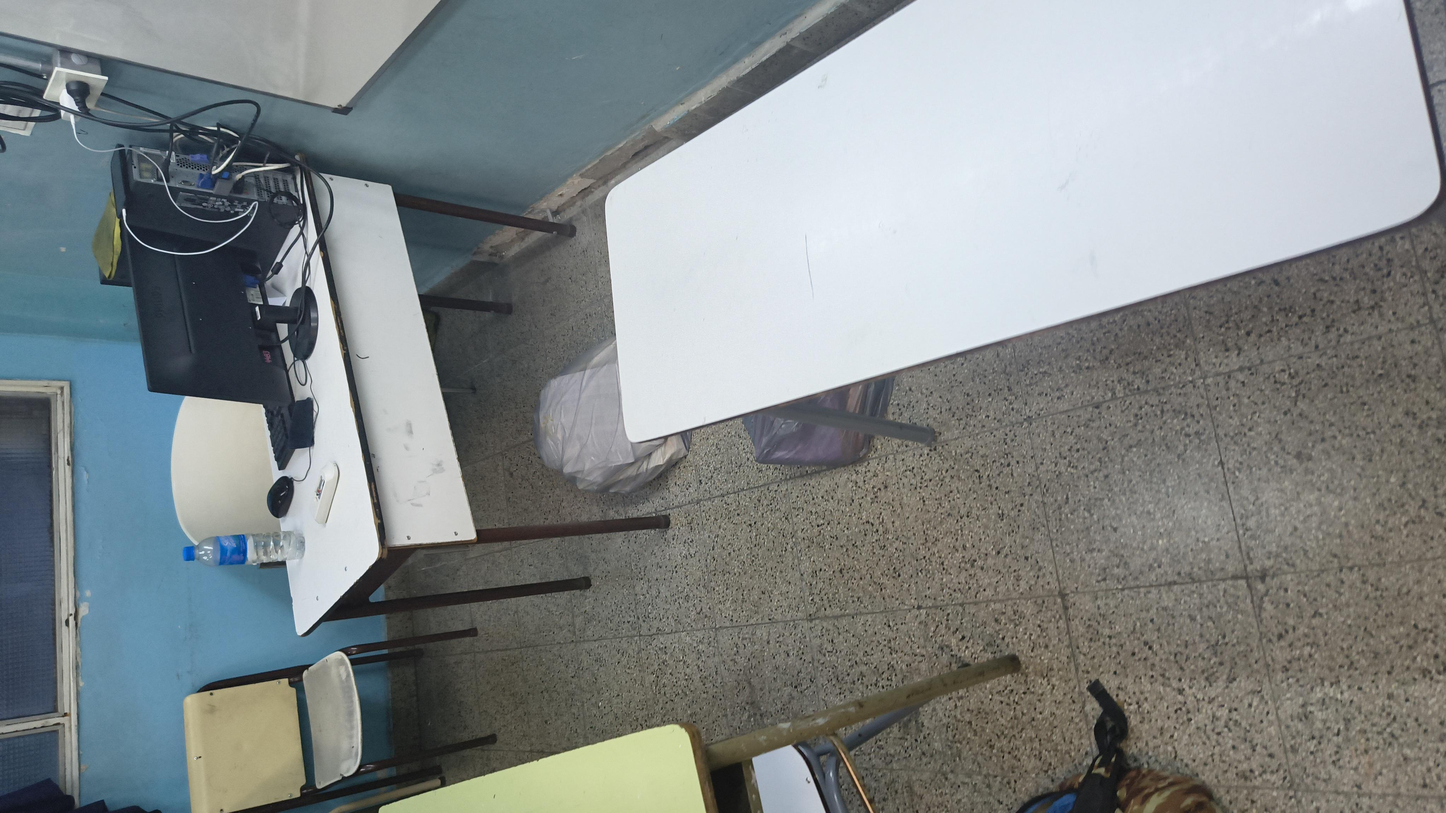Garbage: (565, 397, 923, 516), (521, 288, 847, 401)
